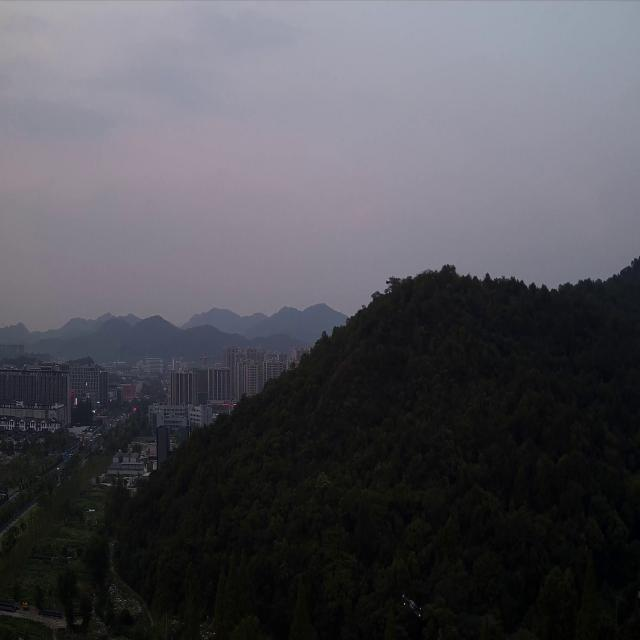drone: (403, 595, 423, 617)
